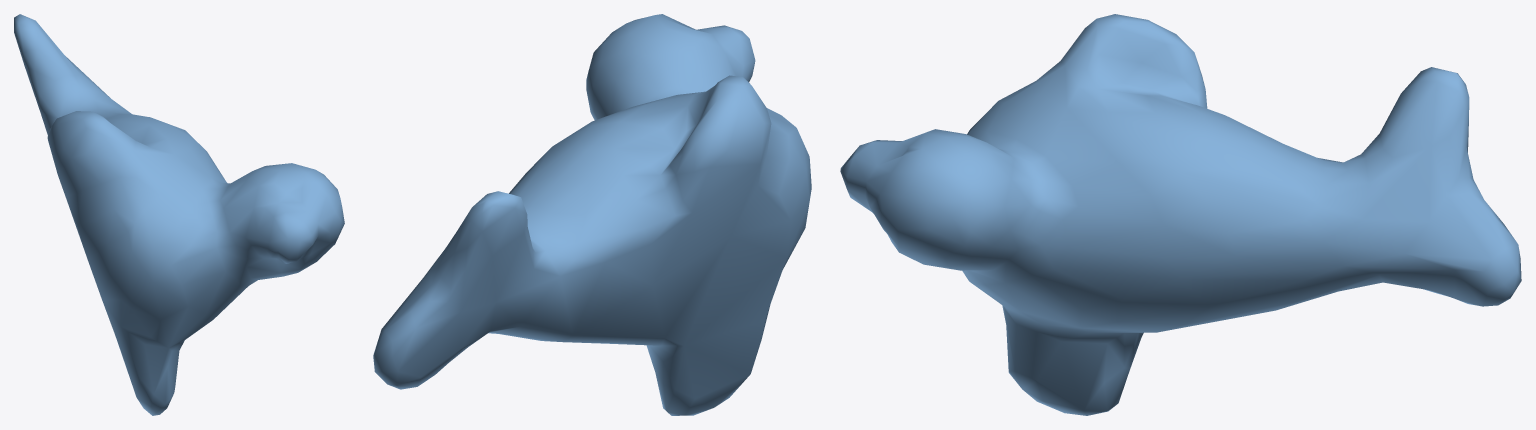
Rendered from seal1_4.dae.
3 renders of one model, left to right at view 1: azimuth 30°, elevation 25°; view 2: azimuth 150°, elevation 25°; view 3: azimuth 270°, elevation 25°, orthographic. The views are drawn at different scales.
Parts seen in each view (by area): view 1: Seal_800_tex_019; view 2: Seal_800_tex_019; view 3: Seal_800_tex_019.
Boxes of the visible parts, bbox=[...] form: Seal_800_tex_019: bbox=[14, 14, 344, 415]; Seal_800_tex_019: bbox=[373, 14, 811, 415]; Seal_800_tex_019: bbox=[840, 14, 1521, 415].
Bounding box in the file's own units: 0.169 × 0.3845 × 0.2295.
